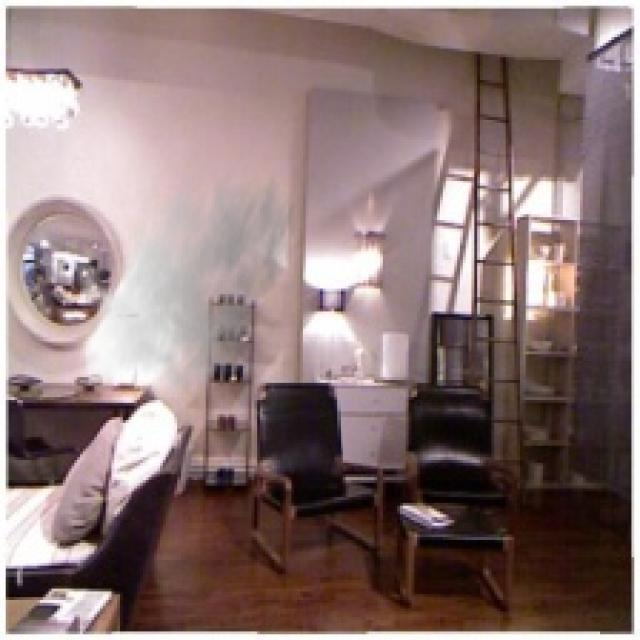Smoke: (77, 154, 297, 400)
